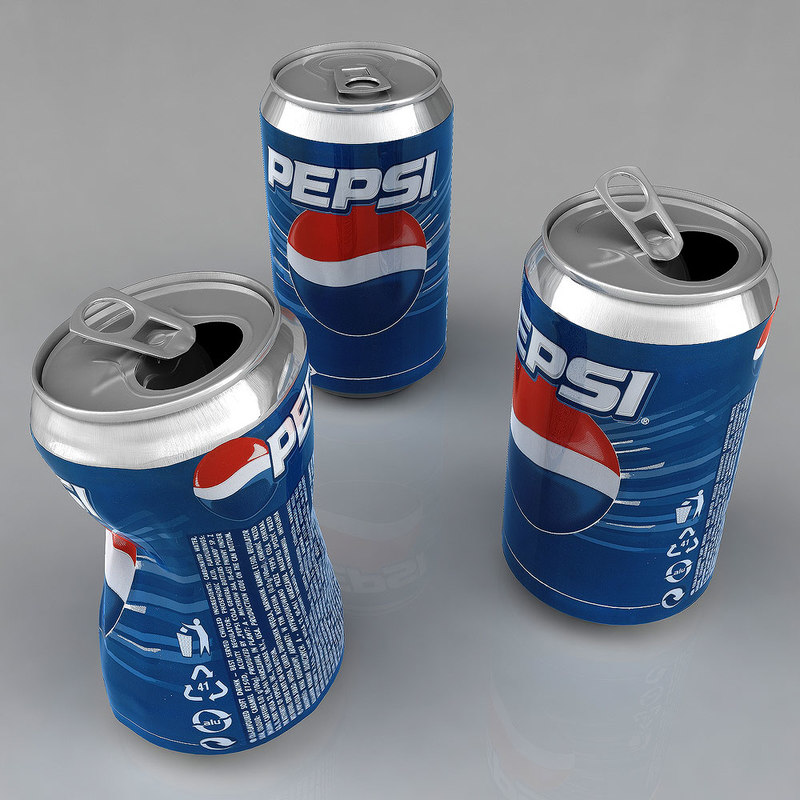can: (23, 257, 364, 774), (494, 156, 794, 636), (252, 29, 496, 409)
